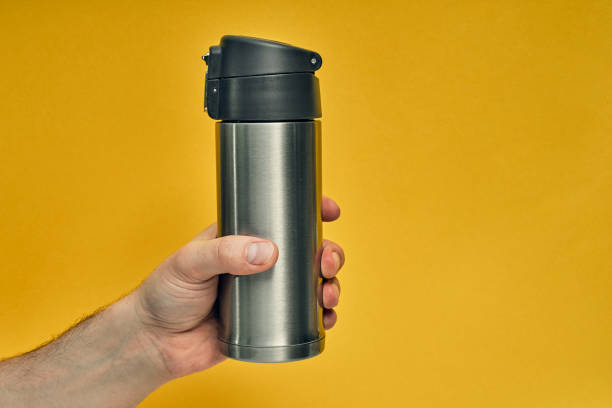bottle: (187, 12, 383, 381)
